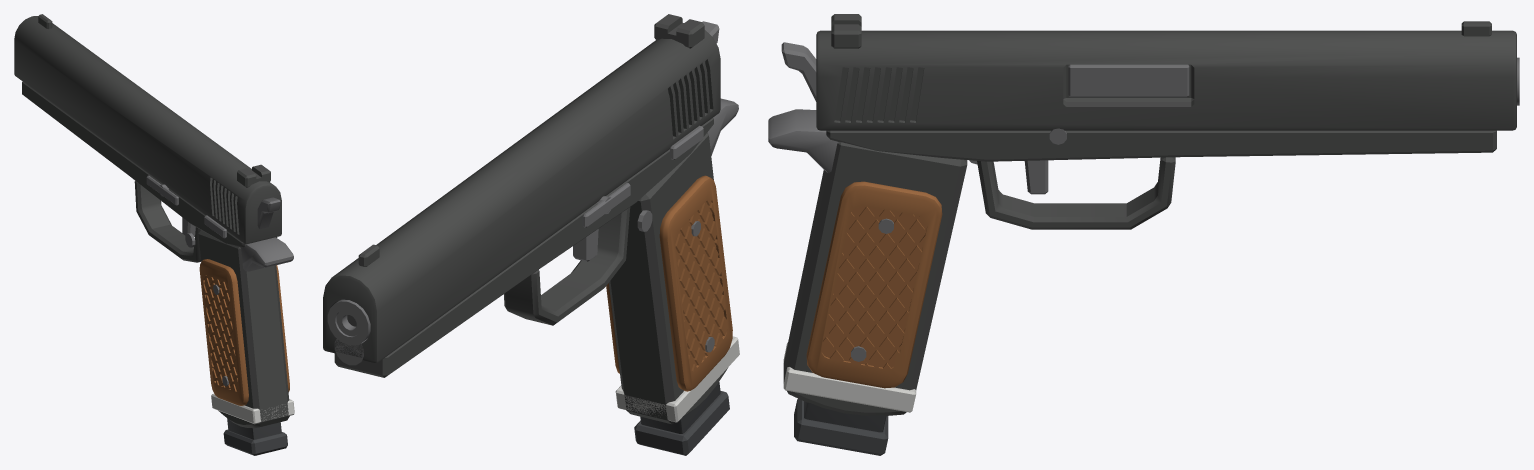
3 renders of one model, left to right at view 1: azimuth 30°, elevation 25°; view 2: azimuth 150°, elevation 25°; view 3: azimuth 270°, elevation 25°, orthographic. The views are drawn at different scales.
Parts seen in each view (by area): view 1: Slide, Body, Wood, Metal, Mag, Tape; view 2: Slide, Body, Wood, Metal, Mag, Tape; view 3: Slide, Body, Wood, Metal, Mag, Tape.
Part boxes in pixels (x1,y1,x2,y2): Slide: (14, 14, 281, 244); Body: (22, 81, 289, 428); Wood: (199, 259, 289, 405); Metal: (146, 175, 293, 386); Mag: (223, 418, 287, 455); Tape: (211, 393, 294, 424); Slide: (323, 14, 720, 362); Body: (334, 118, 728, 424); Wood: (606, 175, 732, 391); Metal: (327, 21, 738, 365); Mag: (634, 382, 729, 455); Tape: (615, 336, 739, 422); Slide: (816, 14, 1516, 130); Body: (783, 130, 1496, 415); Wood: (806, 181, 942, 388); Metal: (768, 42, 1519, 361); Mag: (794, 398, 888, 455); Tape: (783, 342, 916, 412).
Bounding box in the file's own units: 0.174 × 0.924 × 1.49.
